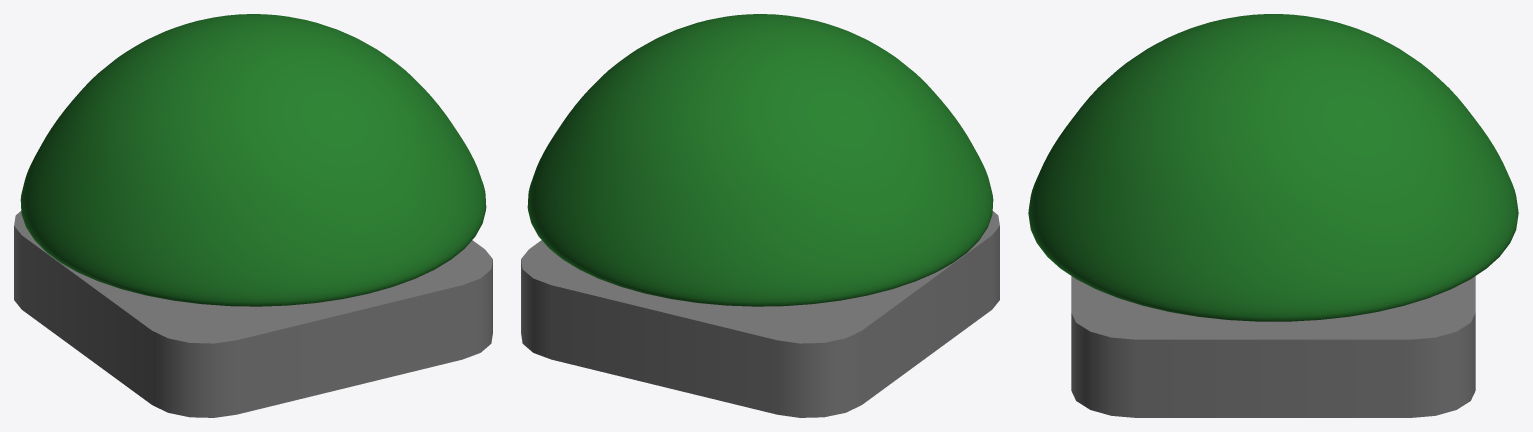
The model's file is GreenSimpleButtton.fbx.
3 views of the same model, side by side, from view 1: azimuth 30°, elevation 25°; view 2: azimuth 150°, elevation 25°; view 3: azimuth 270°, elevation 25° (orthographic). The views are drawn at different scales.
Parts seen in each view (by area): view 1: Sphere, Cube; view 2: Sphere, Cube; view 3: Sphere, Cube.
Part boxes in pixels (left/top/right/bottom): Sphere: left=20, top=14, right=486, bottom=306; Cube: left=14, top=211, right=492, bottom=417; Sphere: left=527, top=14, right=993, bottom=306; Cube: left=521, top=211, right=999, bottom=417; Sphere: left=1028, top=14, right=1518, bottom=321; Cube: left=1071, top=276, right=1475, bottom=417.
Size of the model in its own units: 163 by 109 by 164.
